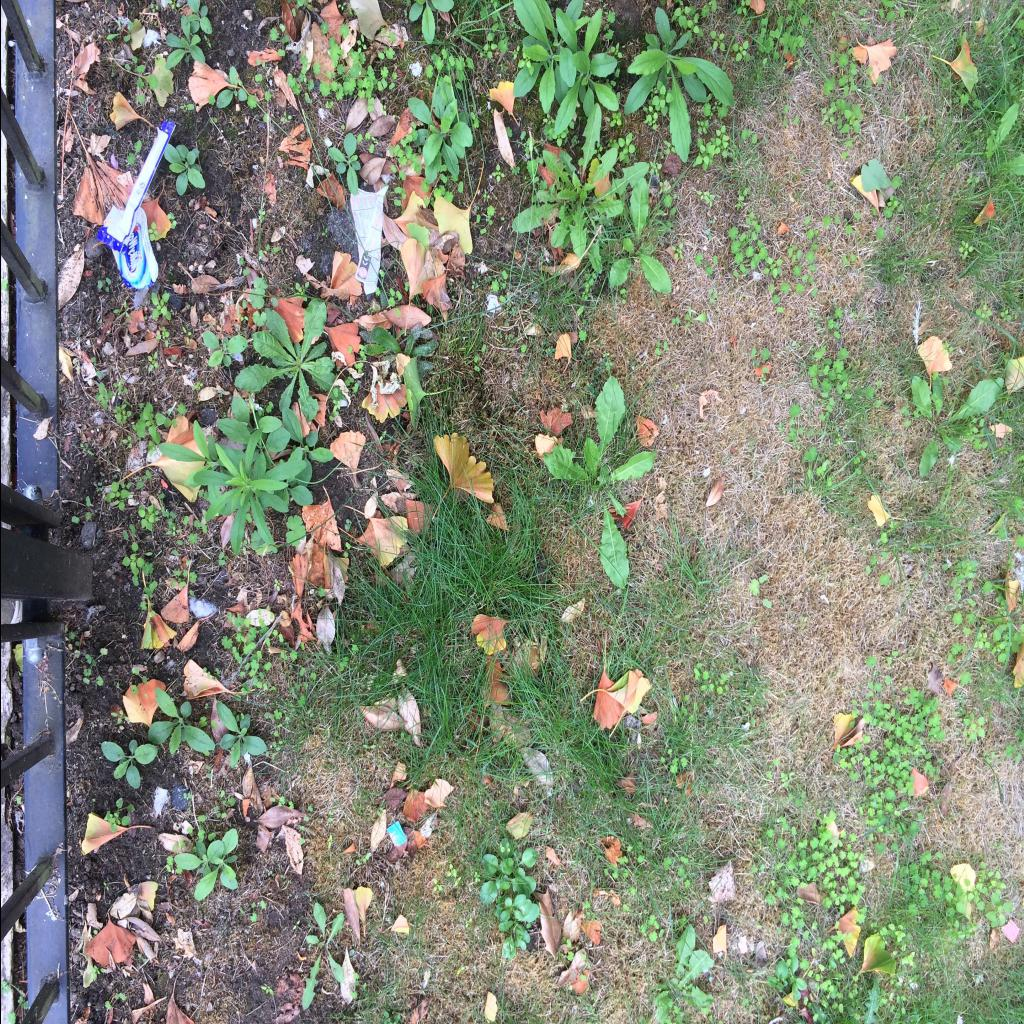Other carton: (386, 820, 406, 846)
Other plastic: (96, 120, 174, 289)
Unlabeled litter: (349, 186, 387, 295)
